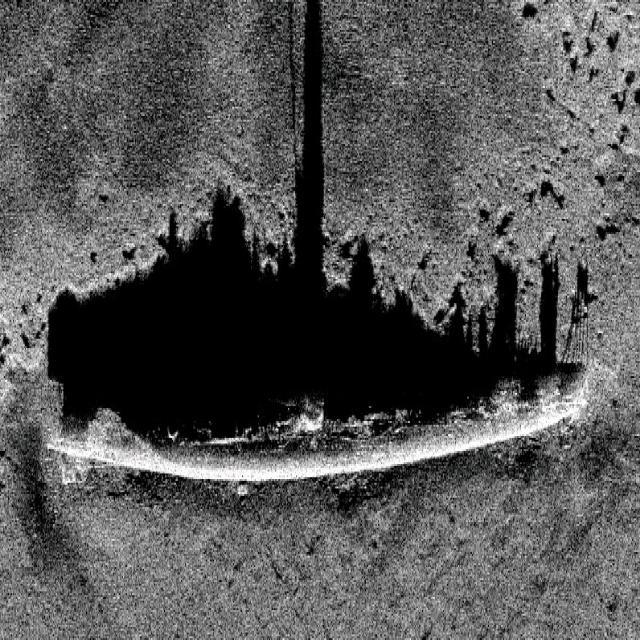shipwreck: (45, 364, 591, 492)
